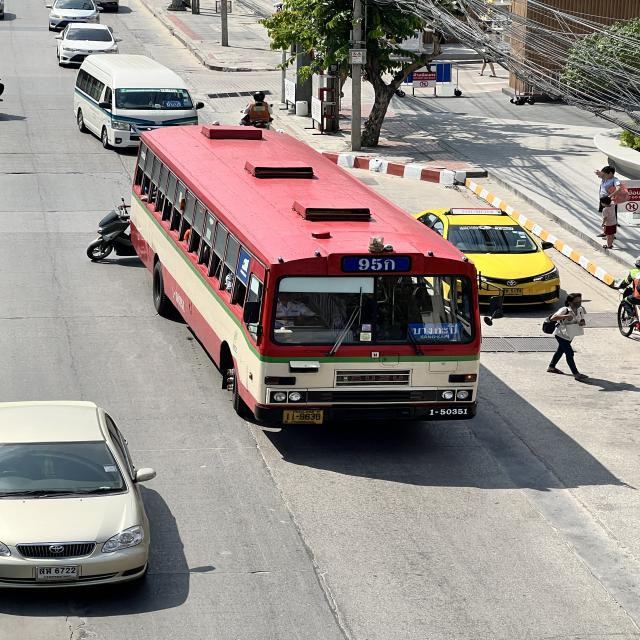BMTA-bus: (123, 124, 483, 430)
Bus-Line-Number: (340, 256, 413, 276)
Destination-Sign-Normal: (408, 322, 463, 340)
